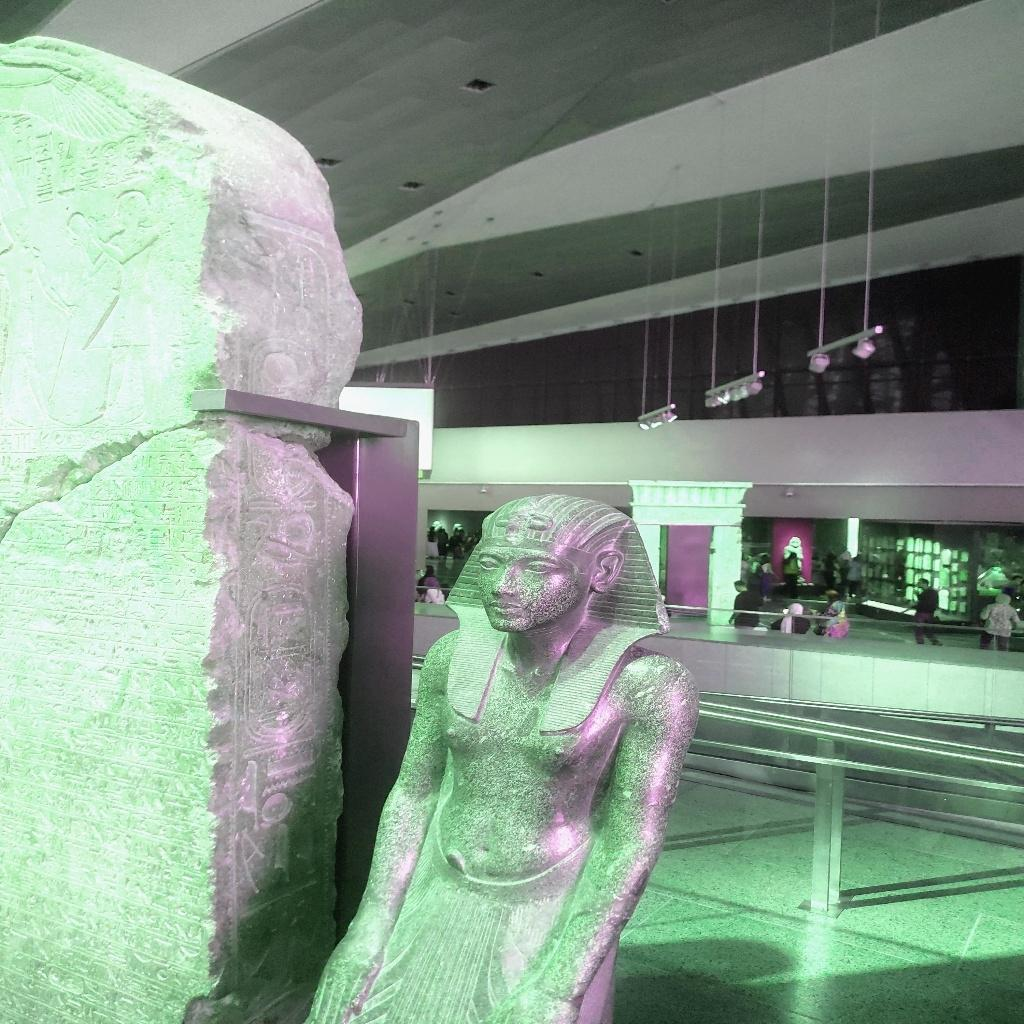Granite Statue of Tutankhamun: (302, 490, 704, 1022)
